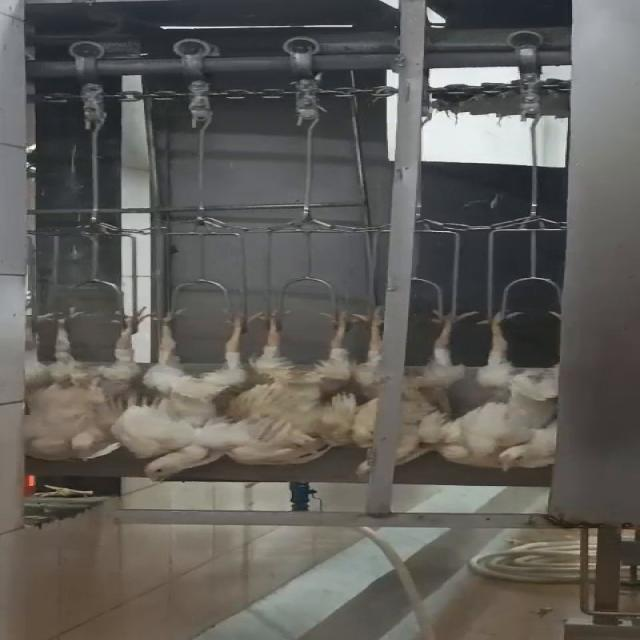chicken: (346, 302, 491, 478), (0, 312, 171, 461), (123, 304, 253, 482), (228, 304, 360, 467), (464, 302, 587, 472)
